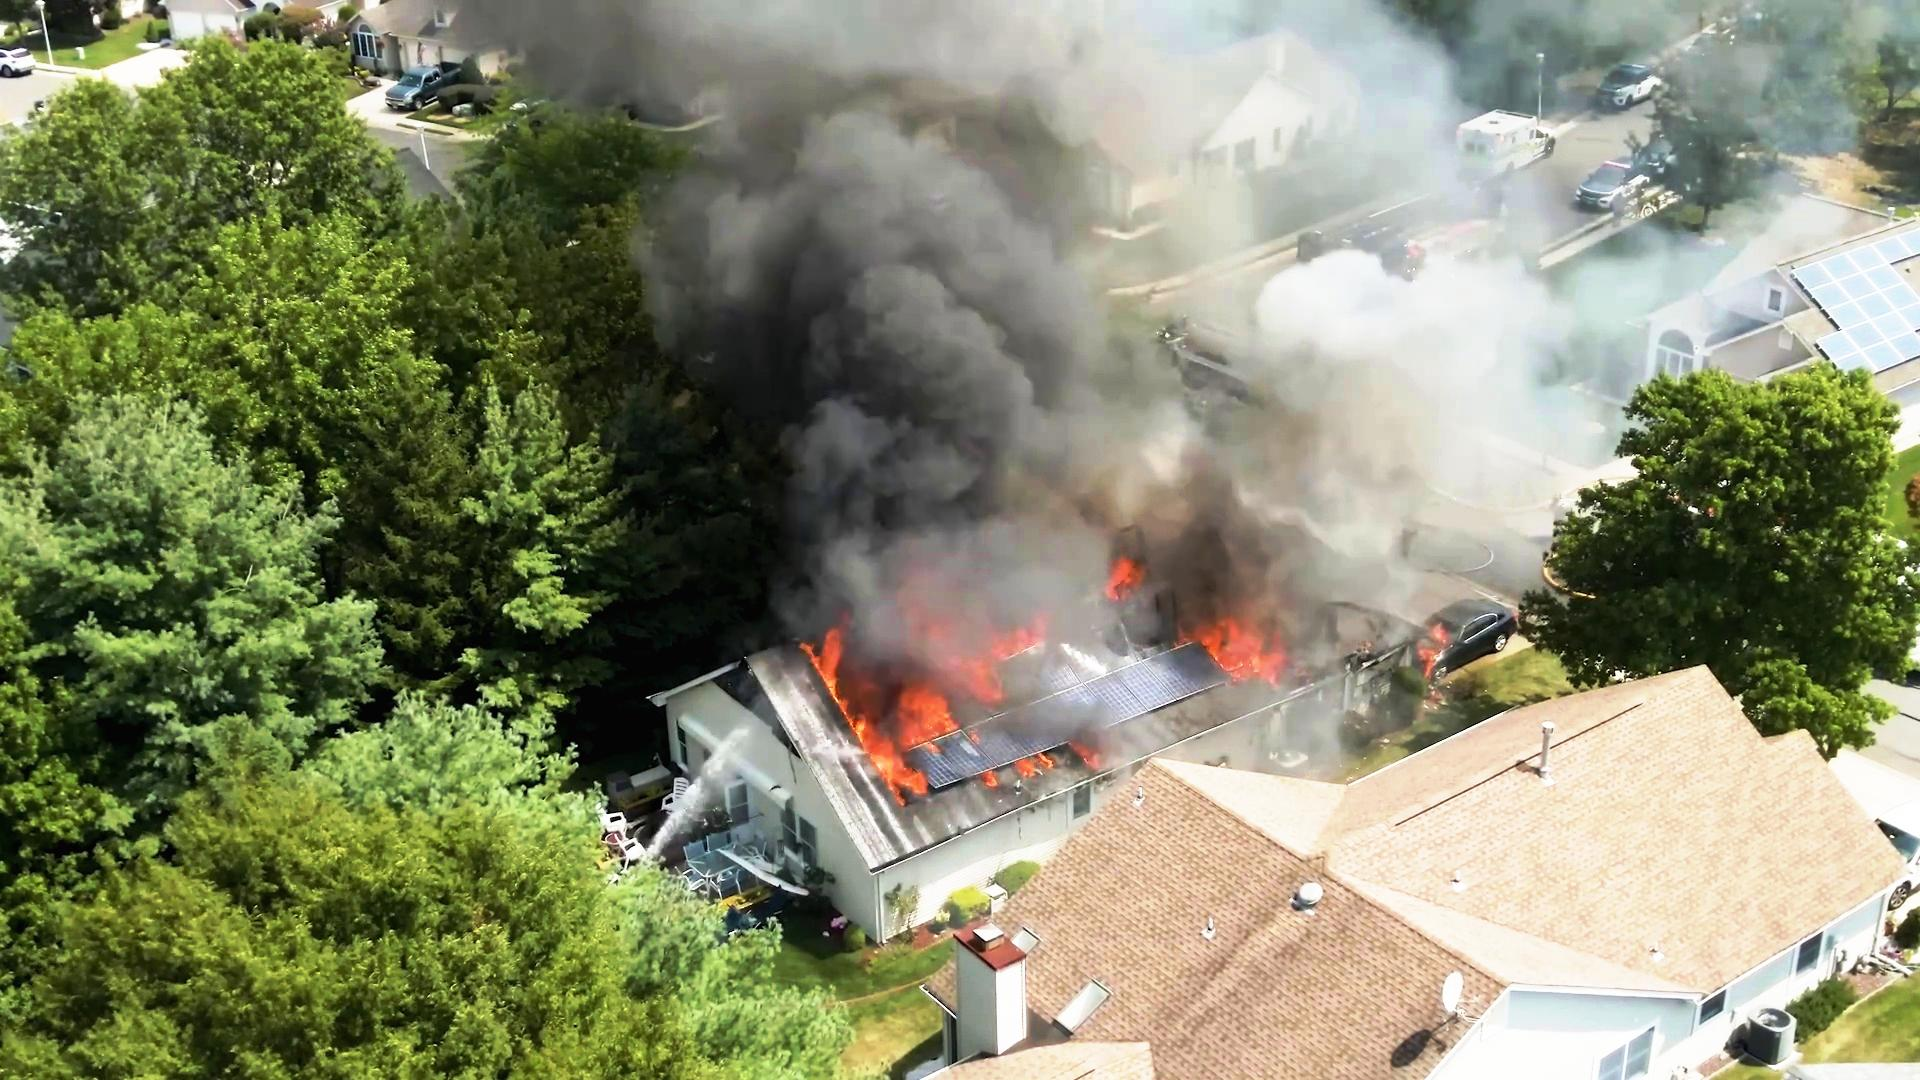fire: (811, 618, 961, 804)
smoke: (818, 211, 1171, 592)
